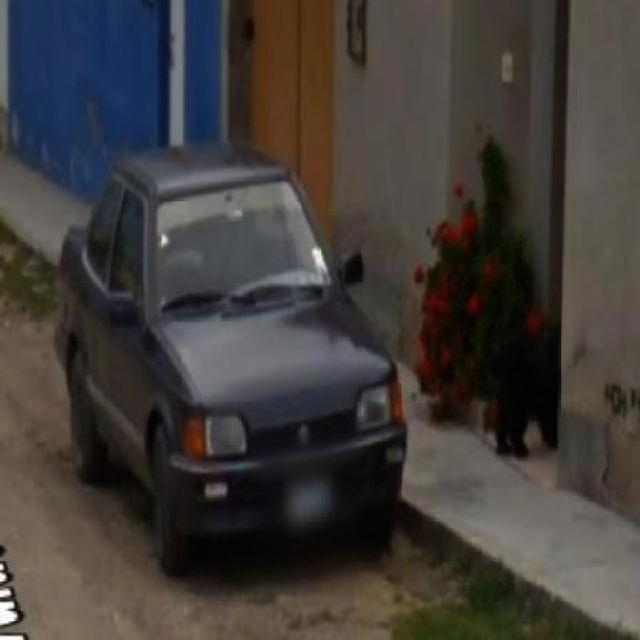car: (56, 138, 410, 571)
